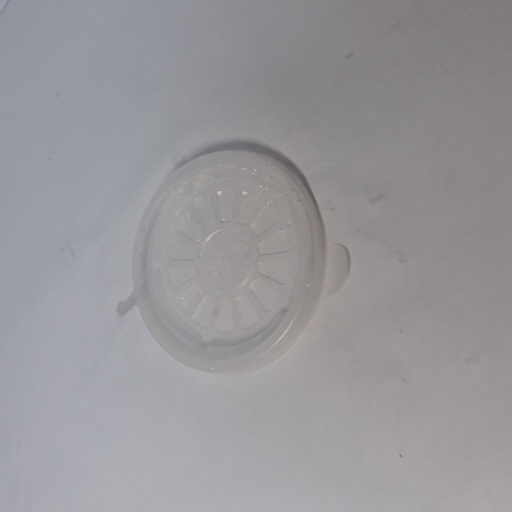Plastic_5: (128, 146, 348, 373)
